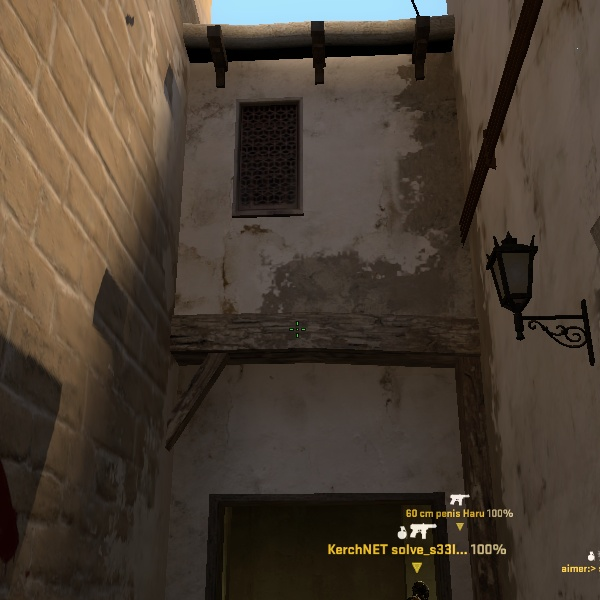t_body: (397, 575, 443, 599)
